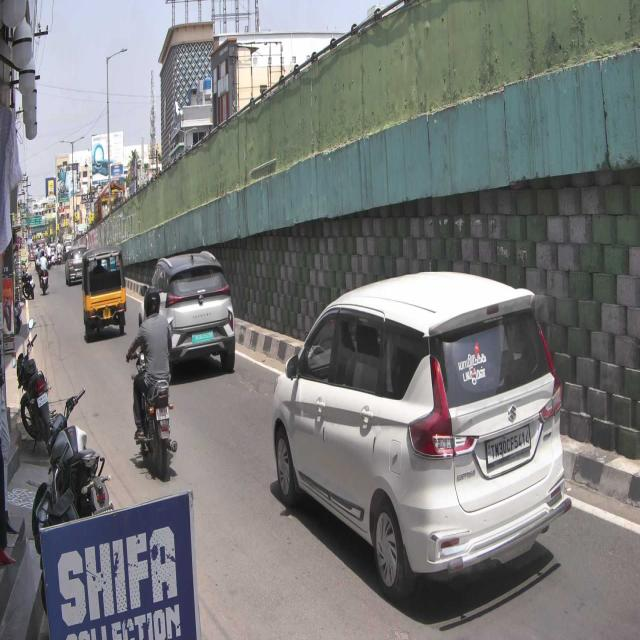single_rider: (125, 282, 178, 480)
